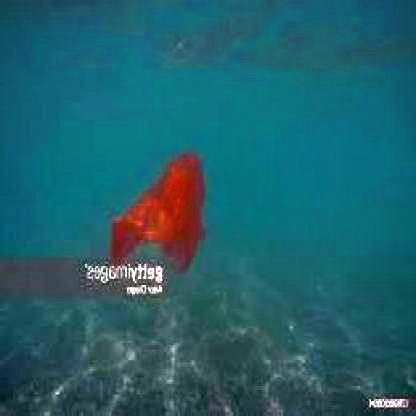pbag: (109, 150, 207, 277)
